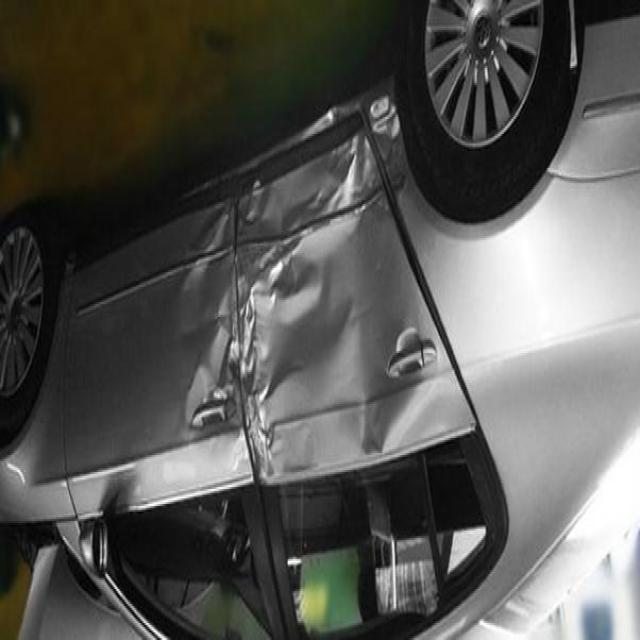dent: (169, 70, 398, 500)
